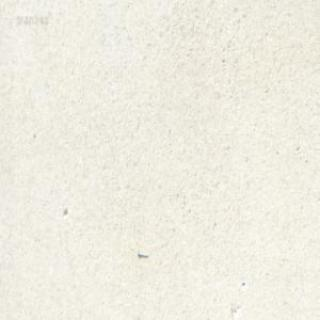Nailtrack_idkeyframe: (136, 249, 148, 258)
